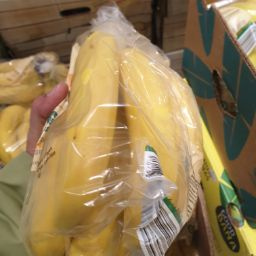Bannana: (51, 8, 197, 255), (48, 15, 202, 223), (19, 113, 209, 256)
